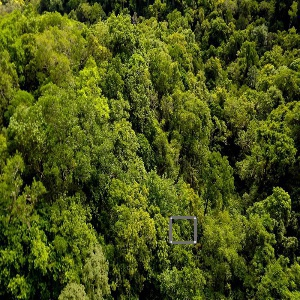square: (168, 215, 197, 244)
